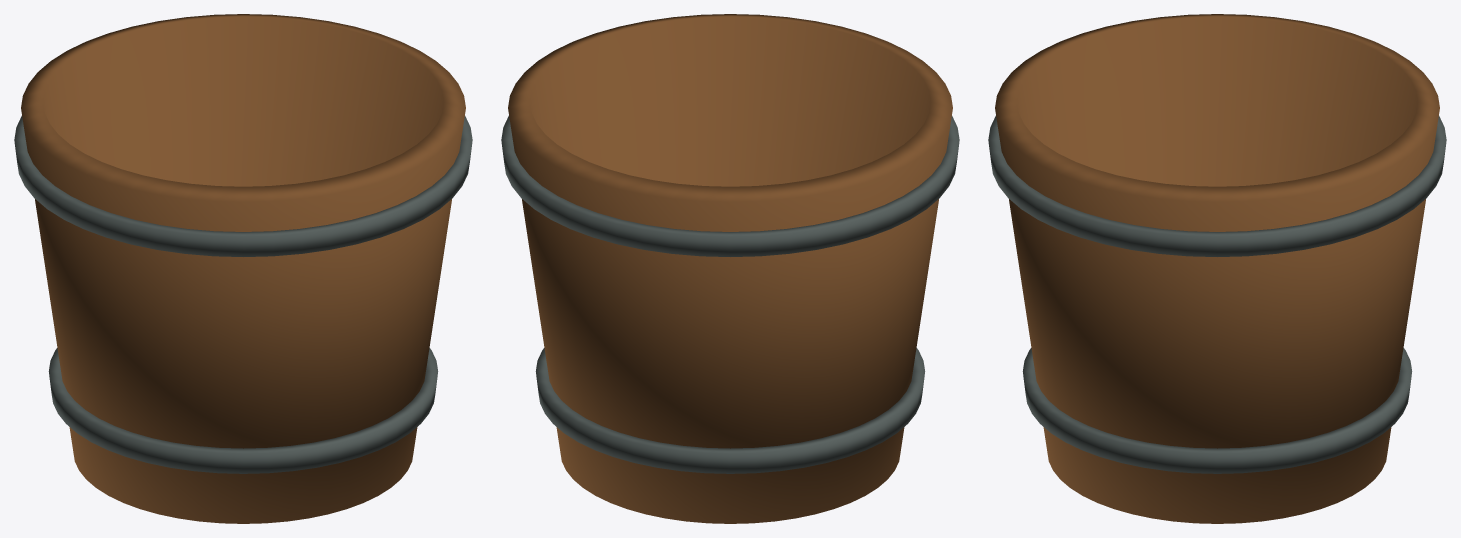
Rendered from SM_Prop_Bucket_Open.fbx.
3 views of the same model, side by side, from view 1: azimuth 30°, elevation 25°; view 2: azimuth 150°, elevation 25°; view 3: azimuth 270°, elevation 25° (orthographic).
Parts seen in each view (by area): view 1: Bucket_open_shell, Bucket_band.001, Bucket_band; view 2: Bucket_open_shell, Bucket_band.001, Bucket_band; view 3: Bucket_open_shell, Bucket_band.001, Bucket_band.
Part boxes in pixels (x1,y1,x2,y2): Bucket_open_shell: (21,14,465,523); Bucket_band.001: (14,116,472,256); Bucket_band: (48,348,438,473); Bucket_open_shell: (508,14,952,523); Bucket_band.001: (501,116,959,256); Bucket_band: (535,348,925,473); Bucket_open_shell: (995,14,1439,523); Bucket_band.001: (988,116,1446,256); Bucket_band: (1022,348,1412,473).
Size of what is drawn, in the model's own units: 35.01 by 35.01 by 29.5.
